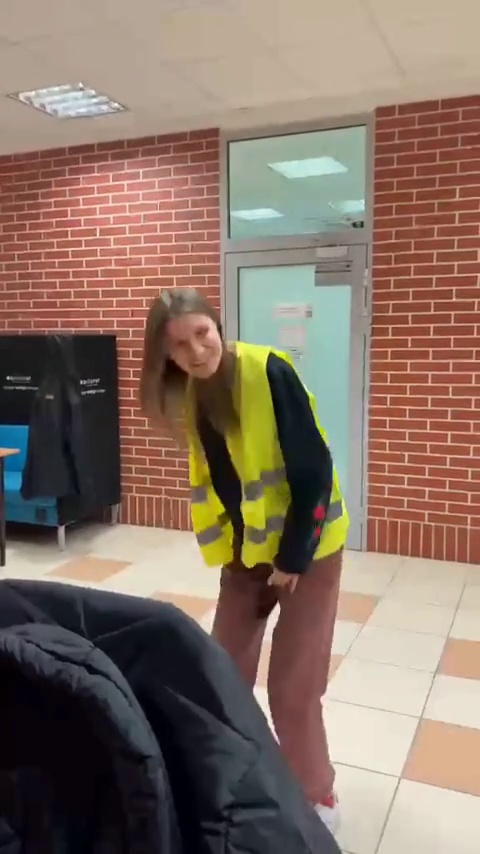vest: (139, 286, 345, 830)
